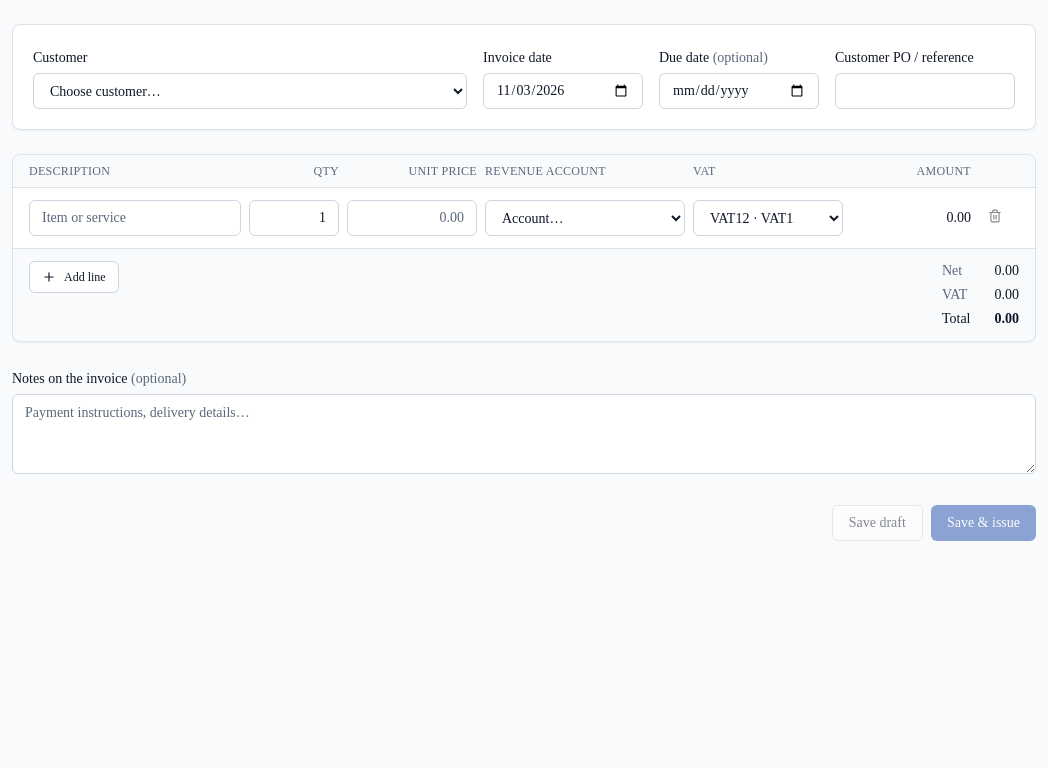
Test: InvoiceForm › offers revenue accounts only and shows live totals
Expected: the button "Save draft" is disabled, [832,505,923,541]
Select "Mabuhay Retail" in the dropdown labelled "Customer" at (250, 91), box [33,73,467,109]
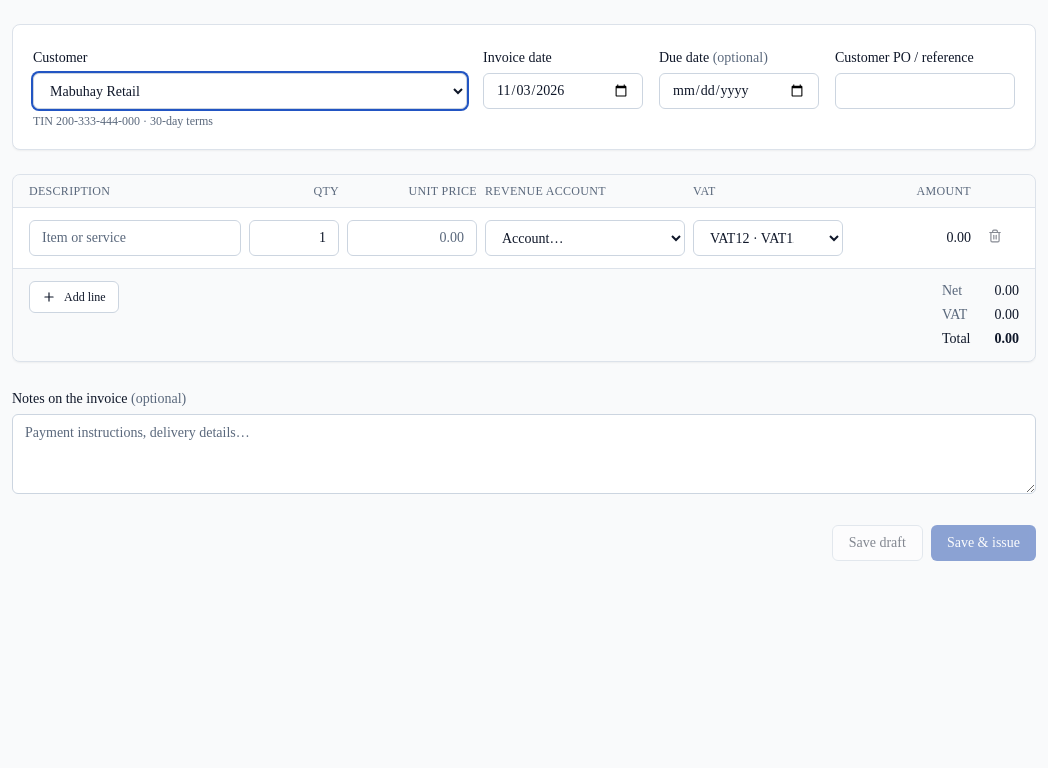
Result: the text "TIN 200-333-444-000 · 30-day terms" is shown at [33,114,213,128]
Type "Rice" into the field named "Line 1 description" at (135, 238), box [29,220,241,256]
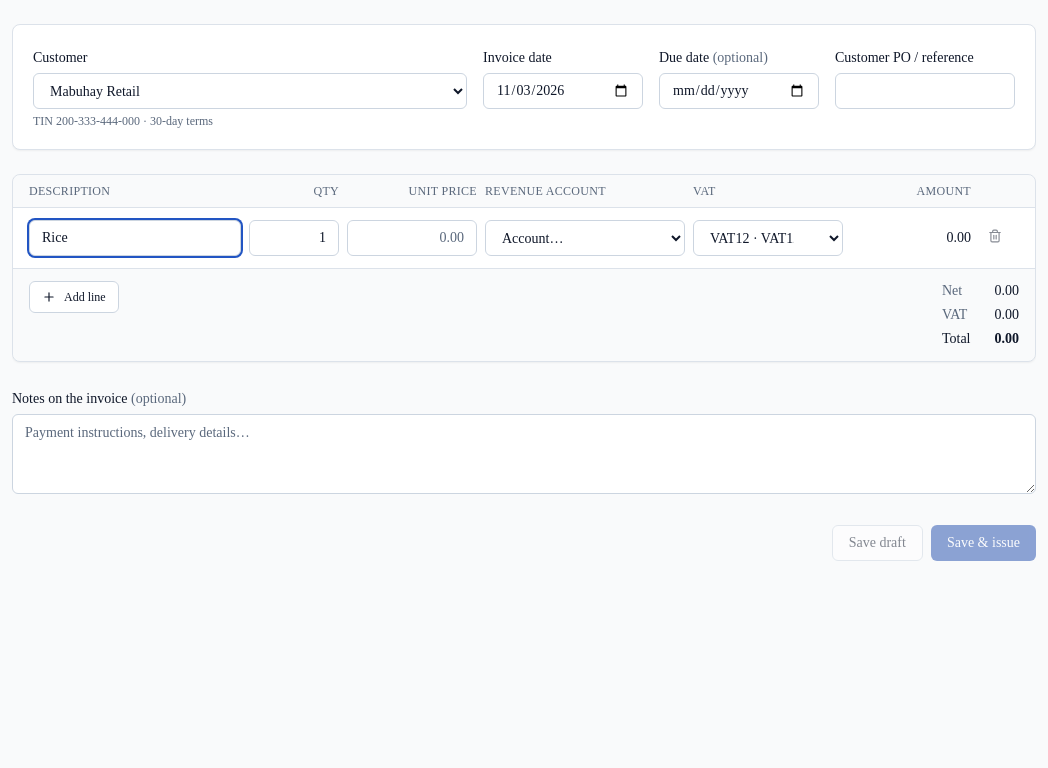
Replace the text in the field named "Line 1 quantity" with "10" at (294, 238), box [249,220,339,256]
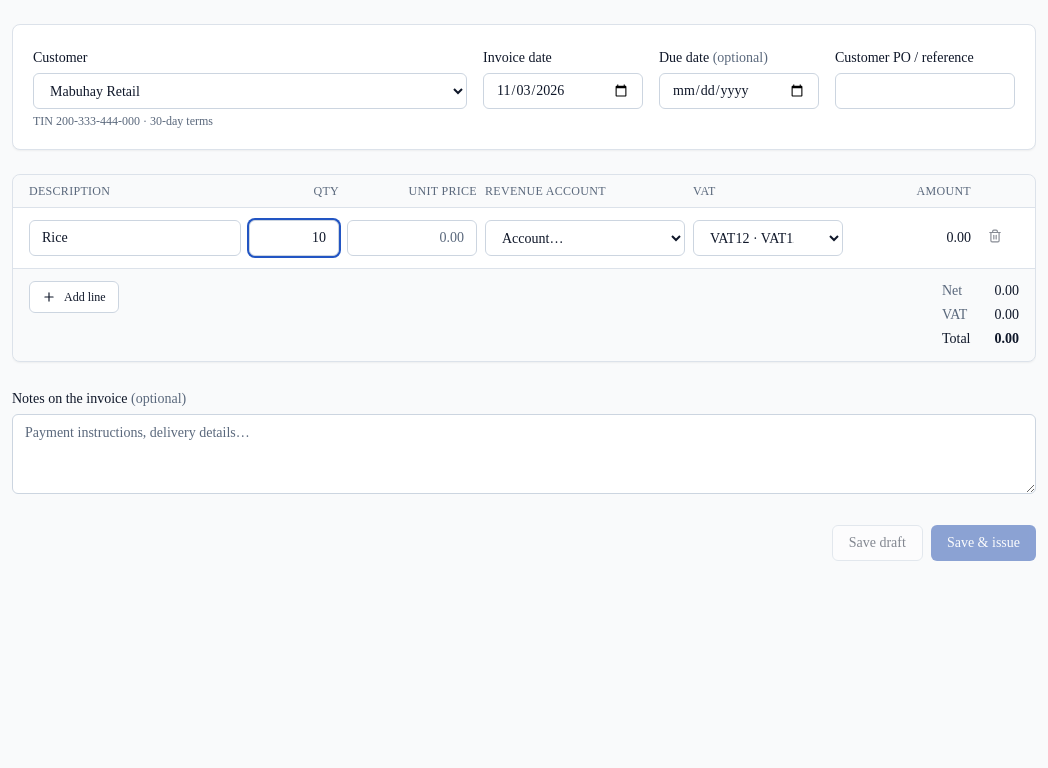
Type "1250" into the field named "Line 1 unit price" at (412, 238), box [347,220,477,256]
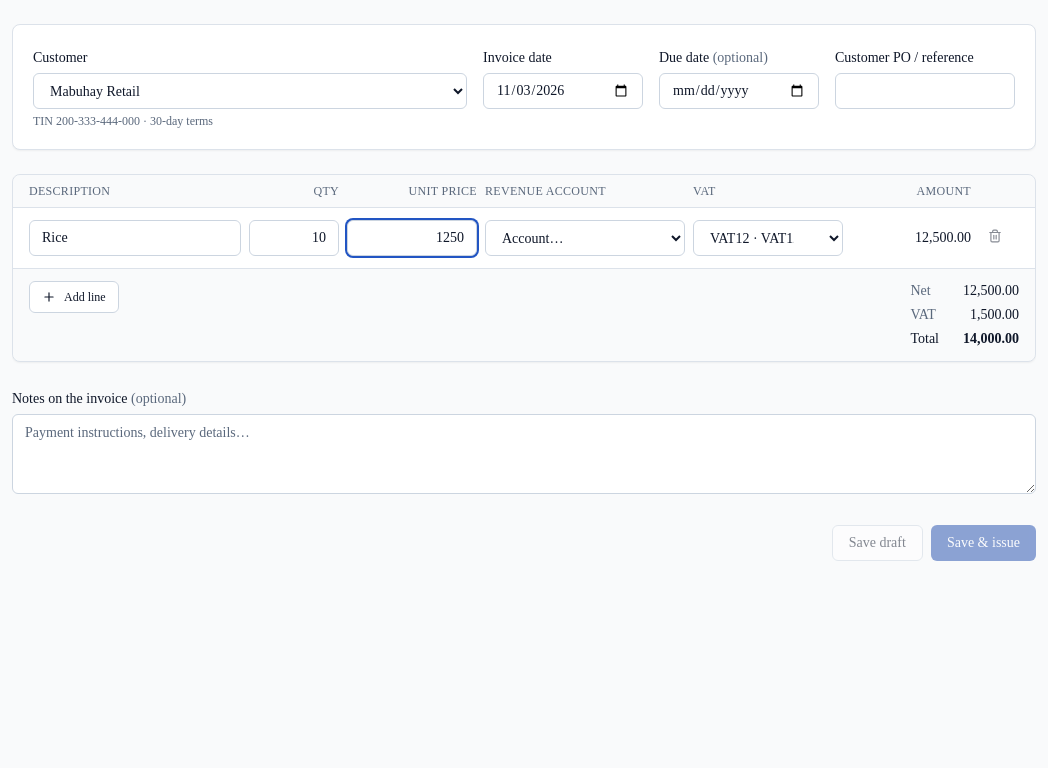
Select "4100 · Acct 4100" in the dropdown named "Line 1 account" at (585, 238), box [485,220,685,256]
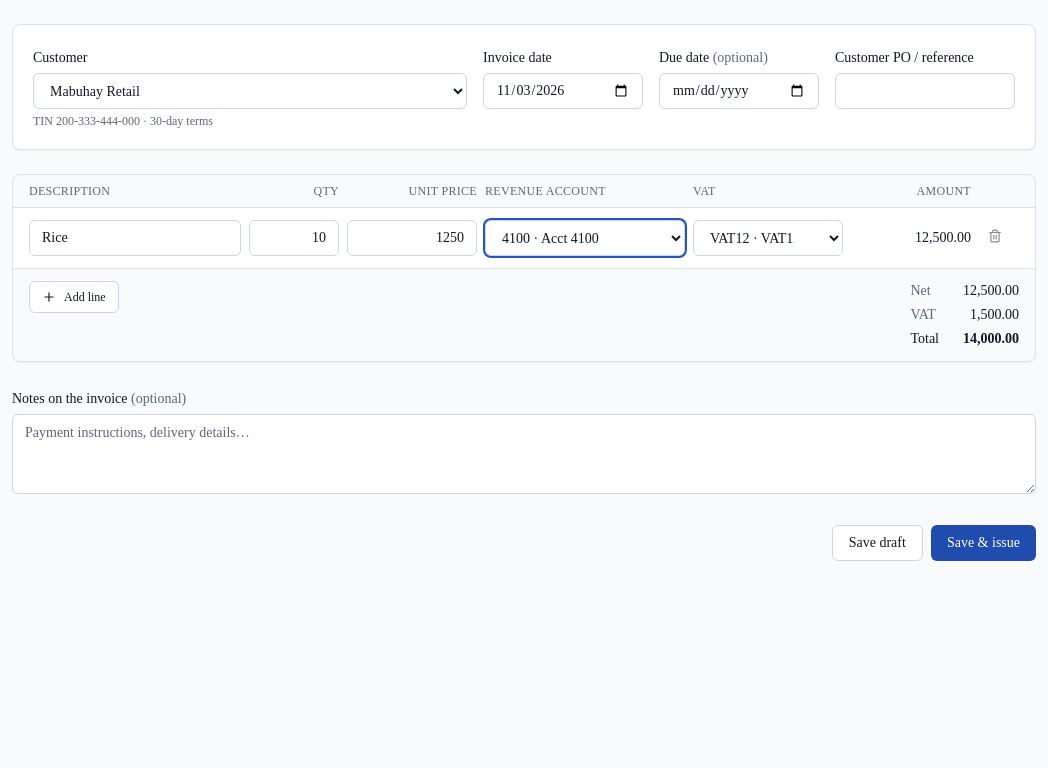
Result: the text "14,000.00" is shown at [963,329,1019,349]
Result: the text "1,500.00" is shown at [963,305,1019,325]
Result: the button "Save & issue" is enabled at [931,525,1036,561]
